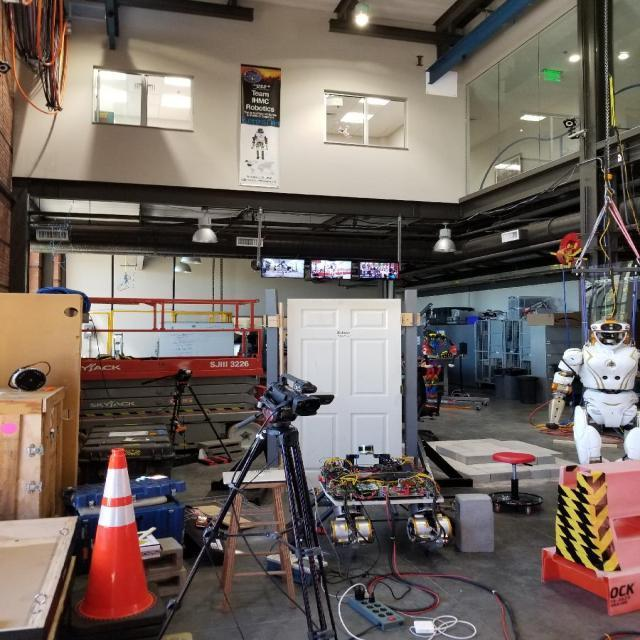door: (282, 295, 408, 485)
